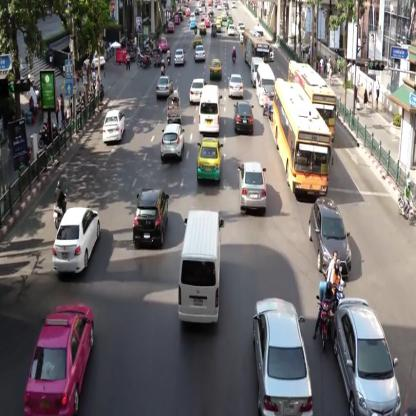bus: (274, 81, 330, 195), (288, 61, 335, 138), (244, 31, 269, 66)
car: (22, 304, 95, 415), (333, 297, 400, 415), (252, 297, 315, 415), (308, 196, 351, 277), (52, 208, 102, 272), (132, 187, 169, 245), (239, 163, 267, 212), (197, 139, 222, 183), (163, 122, 184, 164), (233, 98, 254, 133), (102, 110, 126, 140), (228, 72, 244, 100), (189, 79, 205, 103), (156, 76, 171, 96), (209, 57, 221, 80), (194, 44, 206, 62), (174, 48, 185, 65), (158, 36, 168, 52)
motocycle: (317, 278, 335, 348), (327, 253, 344, 320), (397, 172, 416, 228), (53, 180, 68, 227), (161, 58, 166, 77), (232, 45, 237, 62), (167, 48, 172, 65)
person: (124, 51, 132, 72), (363, 88, 369, 113), (353, 84, 358, 112), (375, 82, 380, 106)
van: (177, 210, 222, 322), (198, 83, 221, 134), (257, 62, 276, 107), (251, 55, 262, 86)
